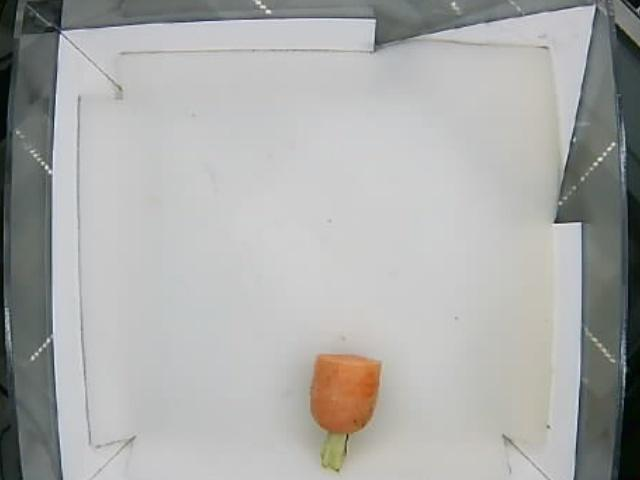Carrot: (309, 352, 379, 477)
